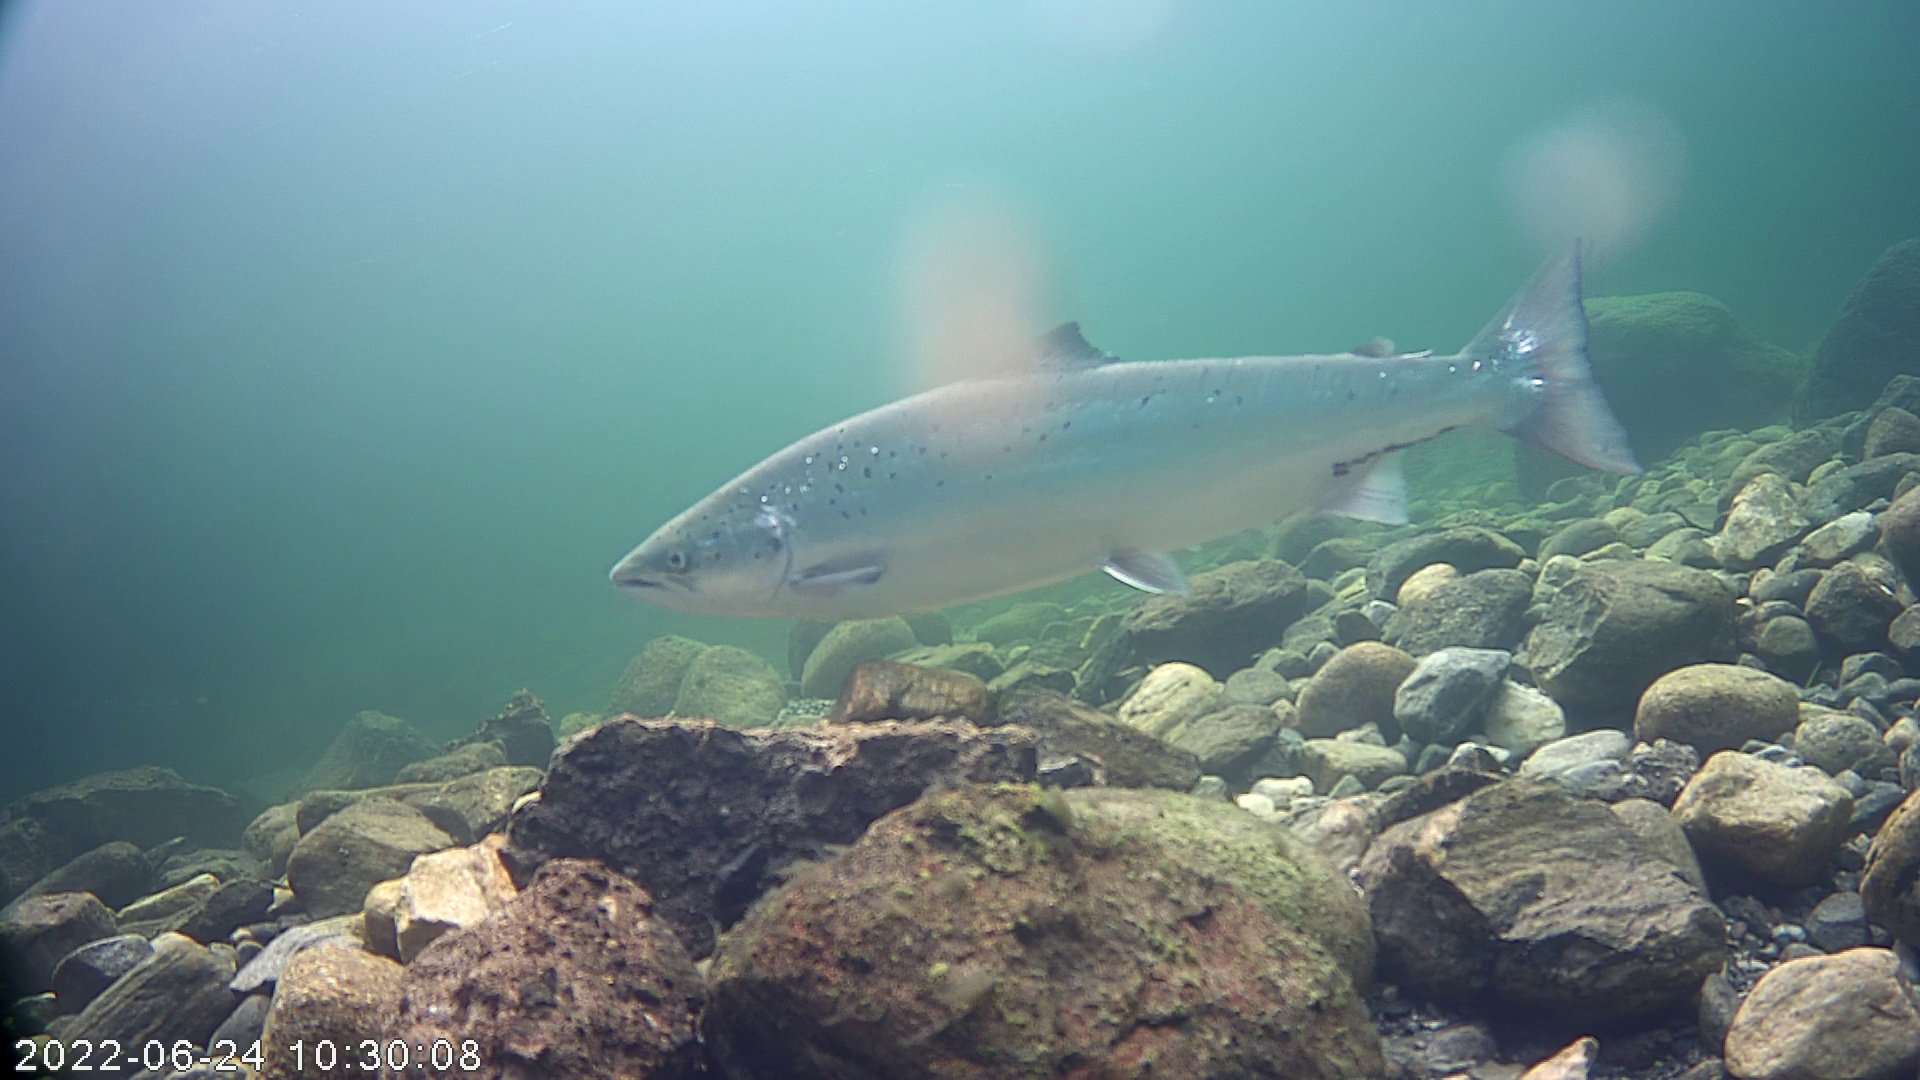salmon: (605, 229, 1644, 626)
